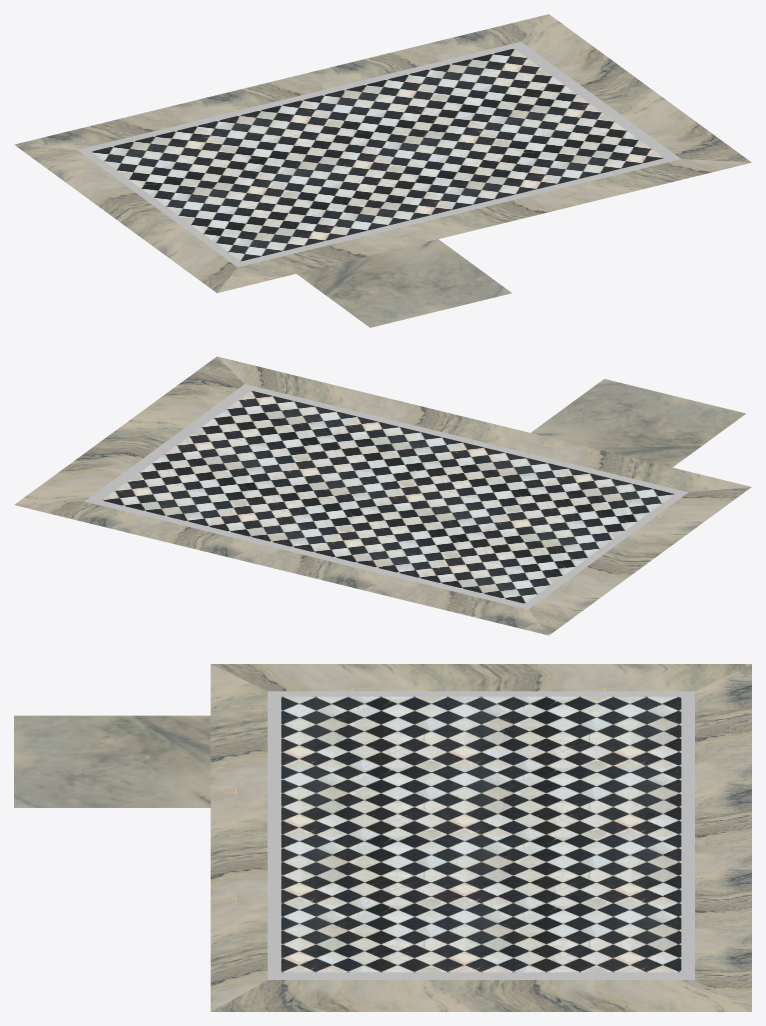
File: Privy_Floor_Smaller.fbx
3 views of the same model, one above another, from view 1: azimuth 30°, elevation 25°; view 2: azimuth 150°, elevation 25°; view 3: azimuth 270°, elevation 25° (orthographic). The views are drawn at different scales.
Visible parts, largest first — view 1: Bathroomfloor1; view 2: Bathroomfloor1; view 3: Bathroomfloor1.
Boxes of the visible parts, x1,y1,x2,y2 form: Bathroomfloor1: (14, 14, 751, 327); Bathroomfloor1: (14, 356, 751, 635); Bathroomfloor1: (14, 664, 751, 1011).
Size of the model in its own units: 732 by 0.000107 by 656.
